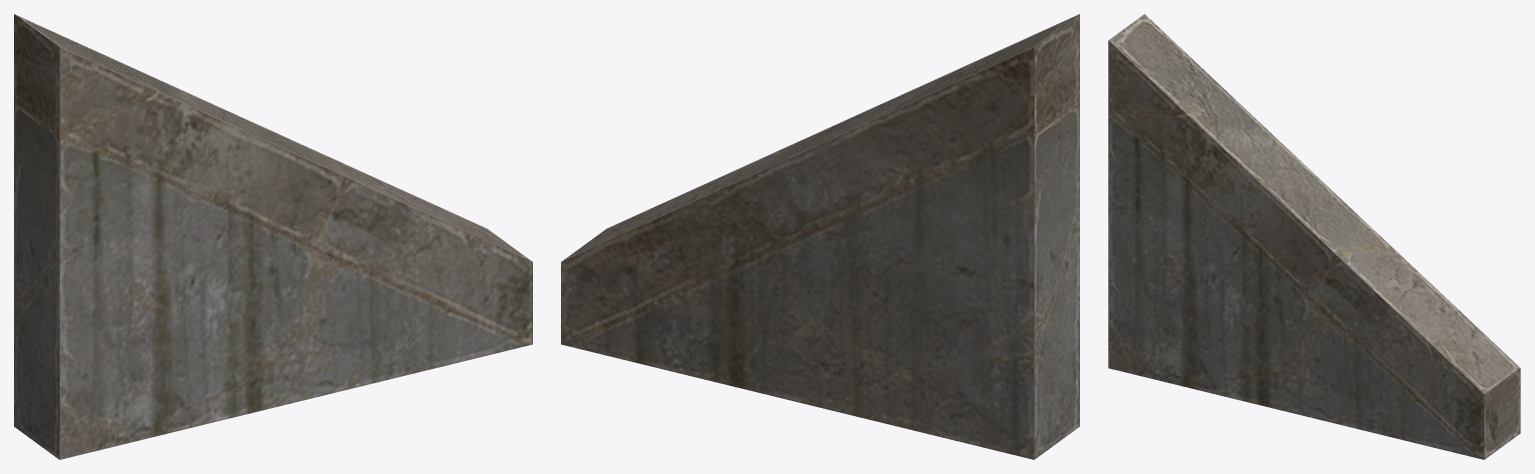
Rendered from bg_anh_etc_srd01_06_sm_old.FBX.
3 renders of one model, left to right at view 1: azimuth 30°, elevation 25°; view 2: azimuth 150°, elevation 25°; view 3: azimuth 330°, elevation 25°, orthographic. The views are drawn at different scales.
Parts seen in each view (by area): view 1: bg_anh_etc_srd01_06_sm_old; view 2: bg_anh_etc_srd01_06_sm_old; view 3: bg_anh_etc_srd01_06_sm_old.
Part boxes in pixels (x1=…): bg_anh_etc_srd01_06_sm_old: x1=14, y1=14, x2=532, y2=459; bg_anh_etc_srd01_06_sm_old: x1=561, y1=14, x2=1079, y2=459; bg_anh_etc_srd01_06_sm_old: x1=1108, y1=14, x2=1520, y2=459.
Size of the model in its own units: 96 by 80 by 16.
